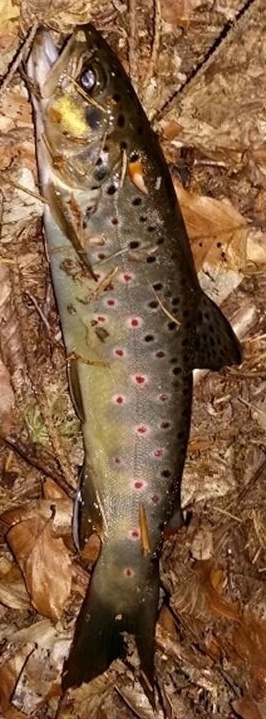Salmo trutta subsp. fario: (20, 20, 246, 702)
